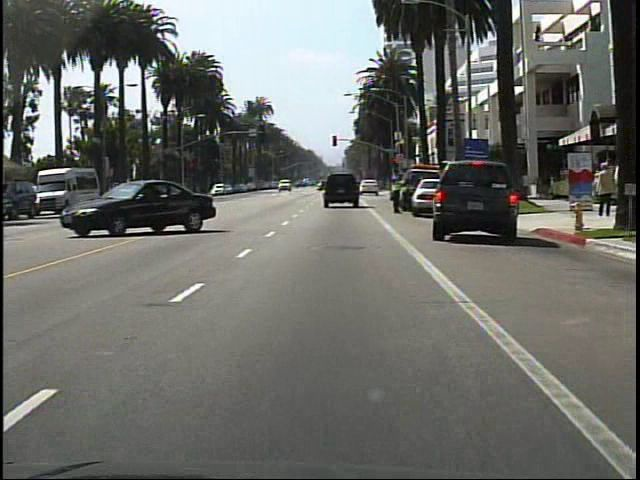person: (592, 160, 613, 222), (387, 171, 405, 219)
